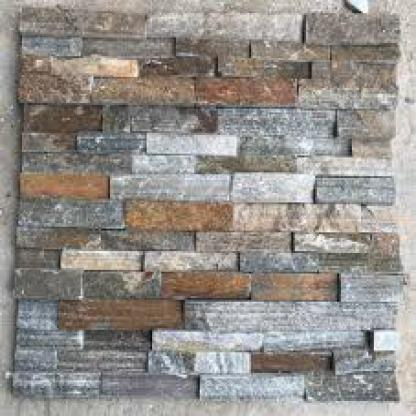Metamorphic_Quartize: (182, 292, 388, 338), (99, 159, 242, 210), (312, 165, 402, 210), (160, 262, 256, 300), (140, 126, 248, 159), (290, 225, 398, 257), (337, 270, 411, 303)
